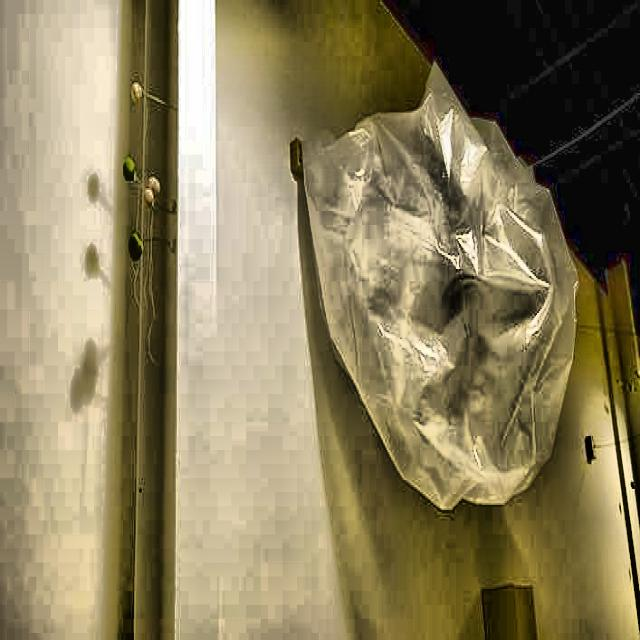Plastic: (299, 56, 589, 524)
